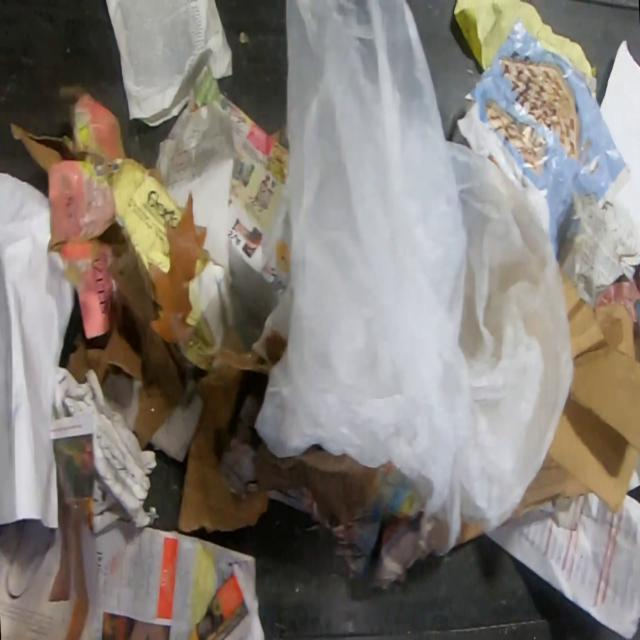cardboard: (8, 84, 182, 340), (512, 274, 640, 521)
soft_plastic: (251, 0, 574, 557)
